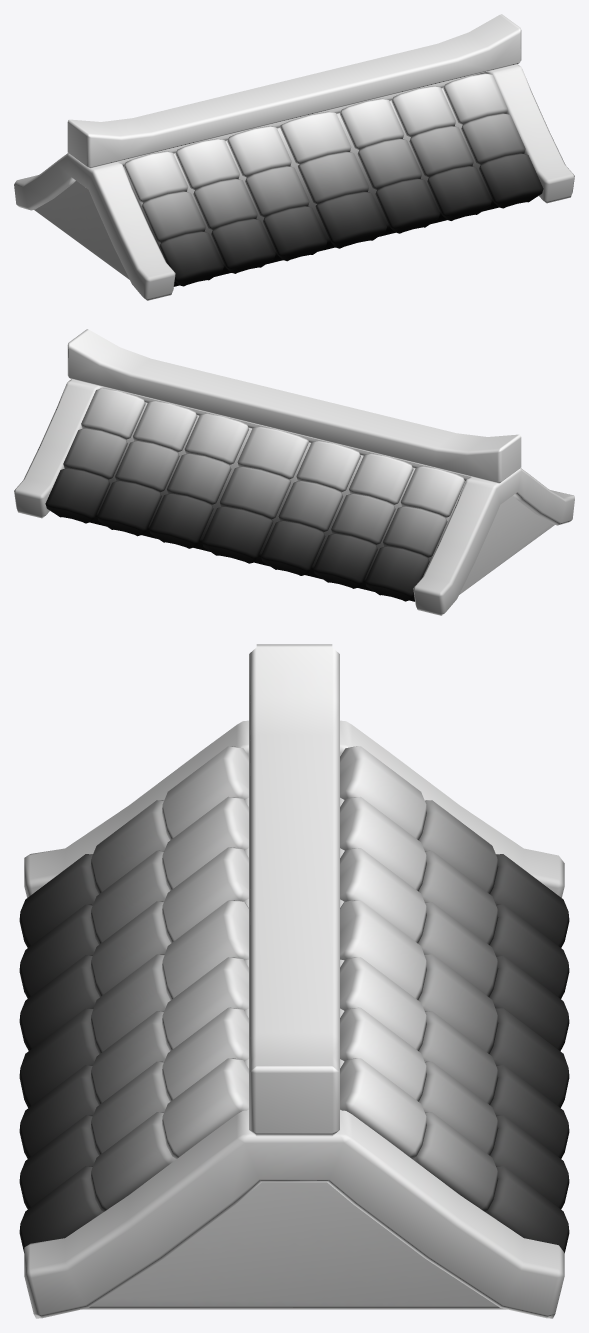
Rendered from SM_Stone_Roof_06.fbx.
3 renders of one model, top to bottom at view 1: azimuth 30°, elevation 25°; view 2: azimuth 150°, elevation 25°; view 3: azimuth 270°, elevation 25°, orthographic. The views are drawn at different scales.
Parts seen in each view (by area): view 1: SM_Stone_Roof_06; view 2: SM_Stone_Roof_06; view 3: SM_Stone_Roof_06.
Boxes of the visible parts, x1,y1,x2,y2 form: SM_Stone_Roof_06: [14, 14, 574, 300]; SM_Stone_Roof_06: [14, 329, 574, 615]; SM_Stone_Roof_06: [19, 644, 569, 1318].
Size of the model in its own units: 2.02 by 0.5745 by 1.11.
